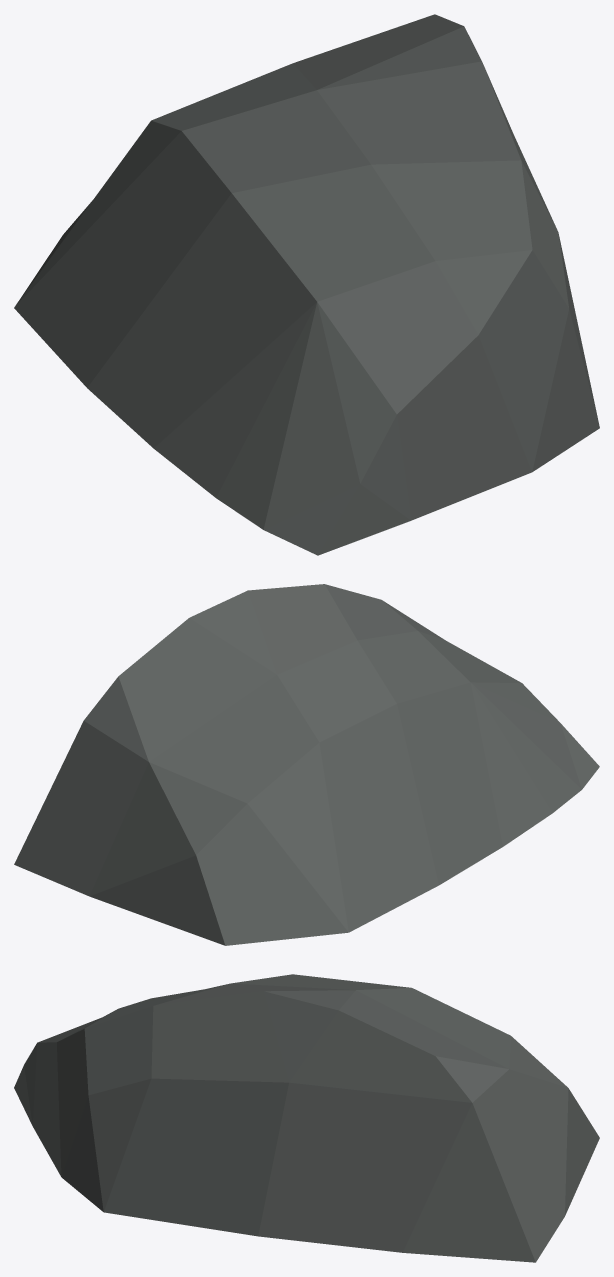
File: RockMedium_03.glb
3 views of the same model, one above another, from view 1: azimuth 30°, elevation 25°; view 2: azimuth 150°, elevation 25°; view 3: azimuth 270°, elevation 25° (orthographic). The views are drawn at different scales.
Parts seen in each view (by area): view 1: RockMedium_03; view 2: RockMedium_03; view 3: RockMedium_03.
Part boxes in pixels (box(x1,y1,x2,y2)): RockMedium_03: box(14, 14, 599, 555); RockMedium_03: box(14, 584, 599, 945); RockMedium_03: box(14, 974, 599, 1262).
Size of what is drawn, in the model's own units: 1.15 by 0.645 by 1.58.
Materials: 1 (1 with a texture image).
